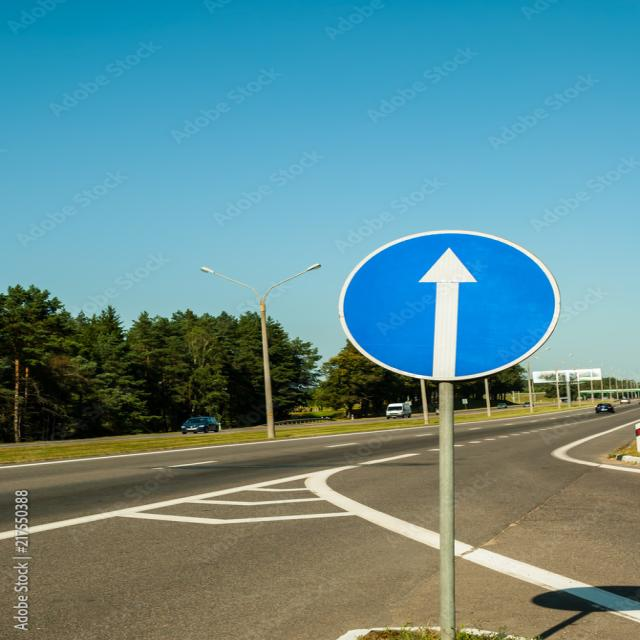STRAIGHT: (339, 230, 559, 381)
